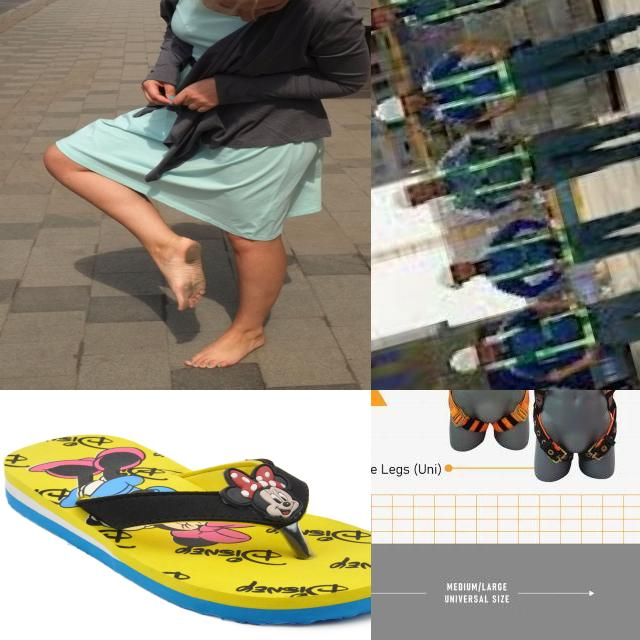Barefoots: (184, 328, 266, 368), (170, 236, 207, 311)
Harness: (481, 305, 598, 378), (427, 137, 541, 211), (419, 52, 520, 120), (476, 224, 578, 289), (386, 0, 509, 32), (510, 395, 528, 422)
Sandals: (2, 432, 371, 626)
